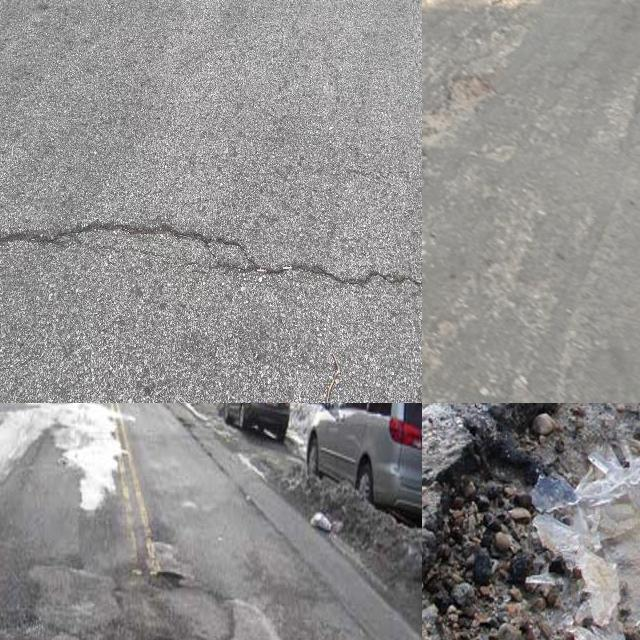Lubang: (423, 403, 640, 640)
Melintang: (0, 211, 422, 300)
